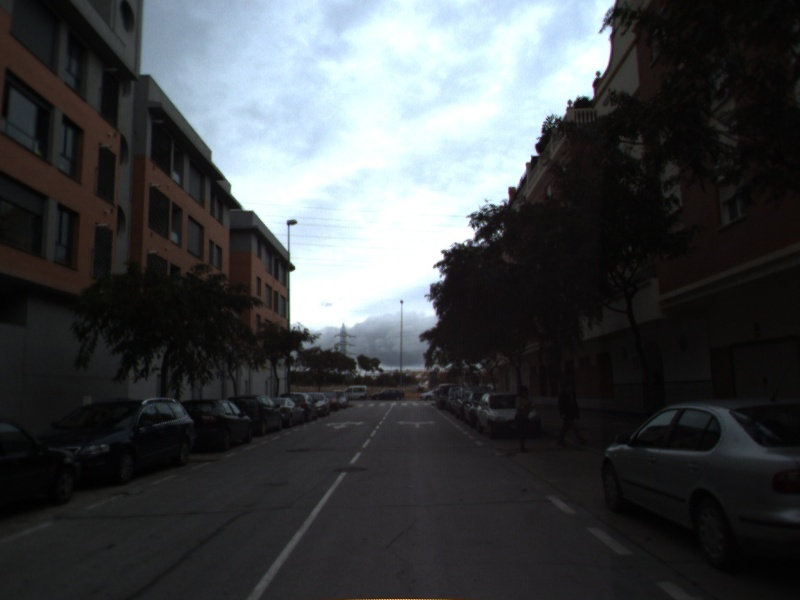LEFT_RIGHT: (396, 419, 439, 429)
